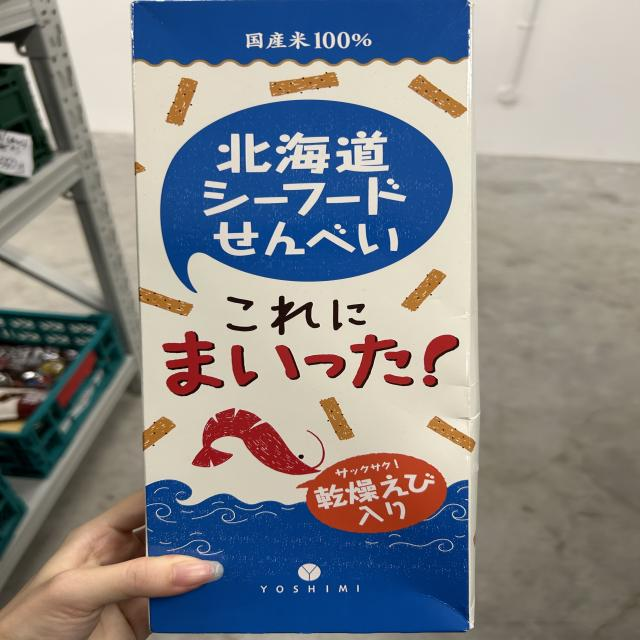object_name: (142, 2, 470, 632)
